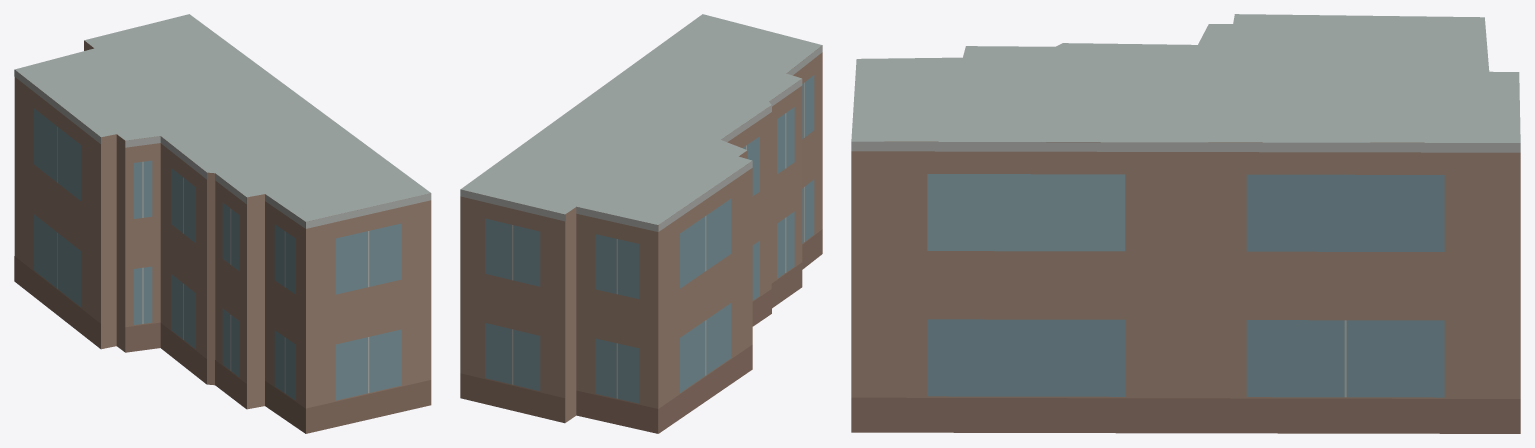
File: survey-upis-32505261.glb
3 views of the same model, side by side, from view 1: azimuth 30°, elevation 25°; view 2: azimuth 150°, elevation 25°; view 3: azimuth 270°, elevation 25° (orthographic). The views are drawn at different scales.
Visible parts, largest first — view 1: survey-upis-32505261.tmp; view 2: survey-upis-32505261.tmp; view 3: survey-upis-32505261.tmp.
Boxes of the visible parts, x1,y1,x2,y2 form: survey-upis-32505261.tmp: (14, 14, 431, 433); survey-upis-32505261.tmp: (460, 14, 822, 433); survey-upis-32505261.tmp: (851, 14, 1520, 433).
Bounding box in the file's own units: 6.95 × 7.3 × 15.24.
